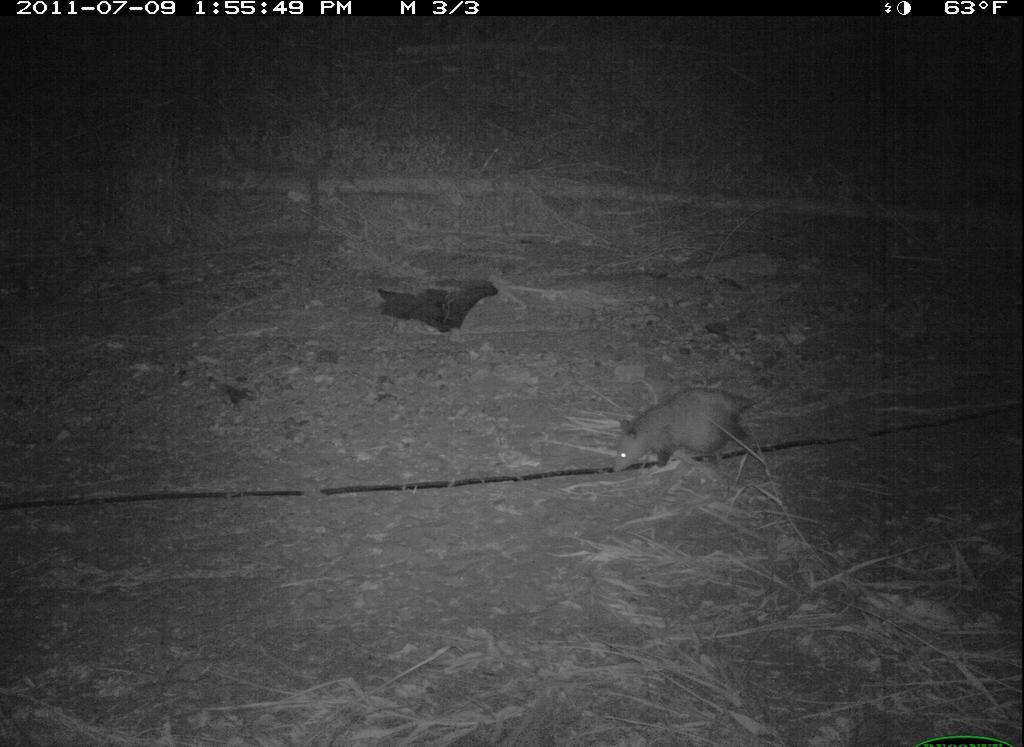opossum: (597, 379, 776, 486)
